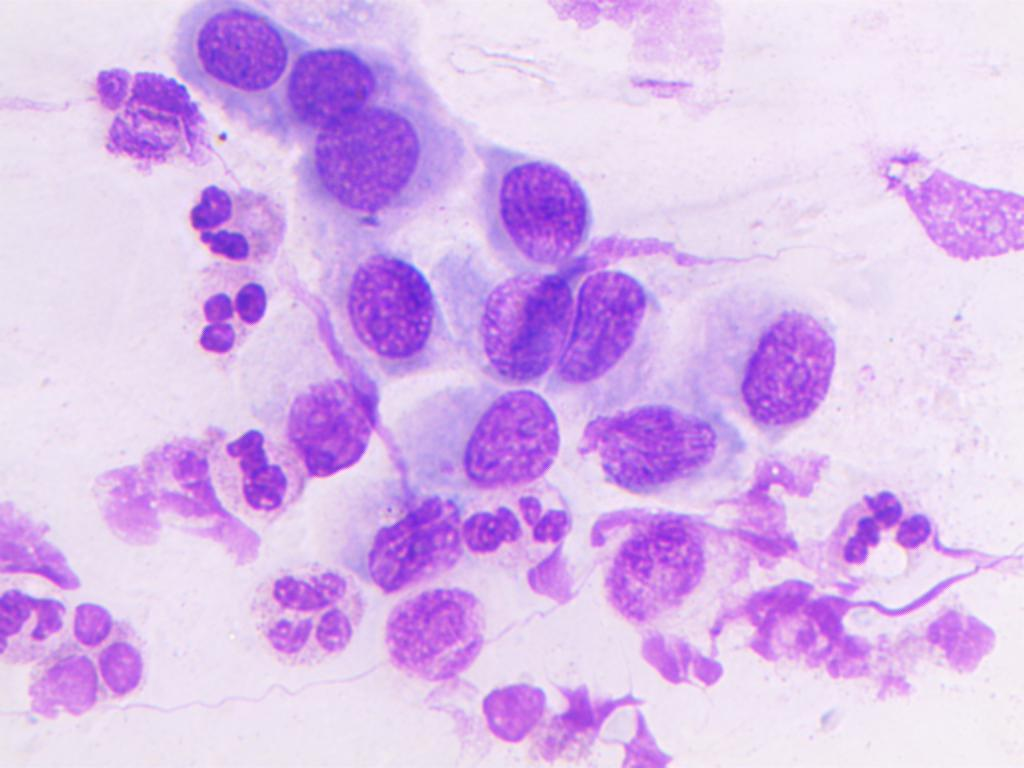artifact: (719, 562, 1012, 704), (491, 660, 692, 768), (83, 413, 226, 549), (898, 143, 1024, 282), (72, 72, 218, 169), (713, 448, 843, 554), (351, 473, 466, 588), (0, 496, 77, 603)
epithelial: (307, 213, 460, 376), (475, 129, 599, 266), (571, 400, 742, 497), (595, 510, 718, 630), (273, 372, 394, 482), (308, 110, 421, 219), (467, 276, 581, 380), (250, 560, 365, 663), (168, 1, 285, 97), (382, 591, 491, 688), (574, 269, 647, 393), (280, 35, 374, 122)
goblet_cell: (678, 269, 865, 439), (406, 383, 577, 498)
neutrophil: (13, 602, 161, 718), (815, 476, 946, 578), (456, 480, 587, 574), (168, 267, 281, 356), (210, 417, 307, 517), (191, 170, 297, 261)
